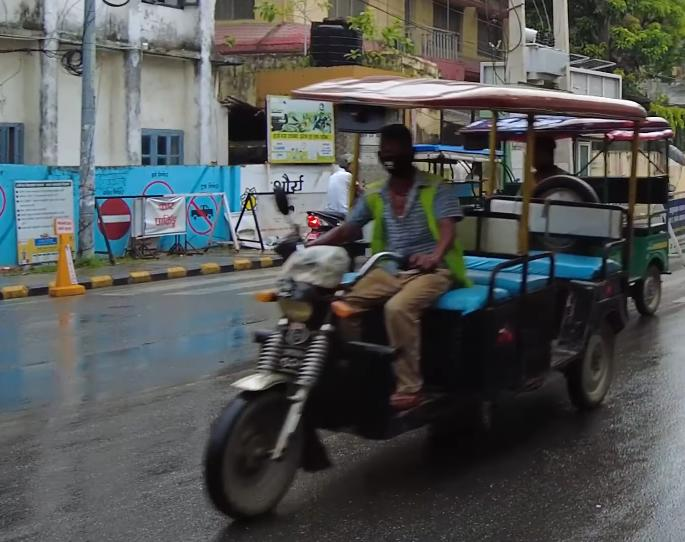e-rickshaw: (200, 65, 652, 522)
